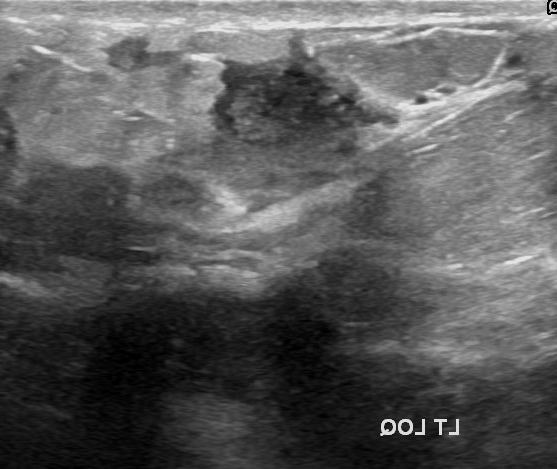Benign: (215, 51, 338, 139)
